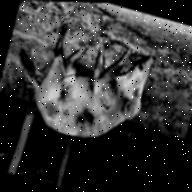boar: (0, 11, 161, 174)
